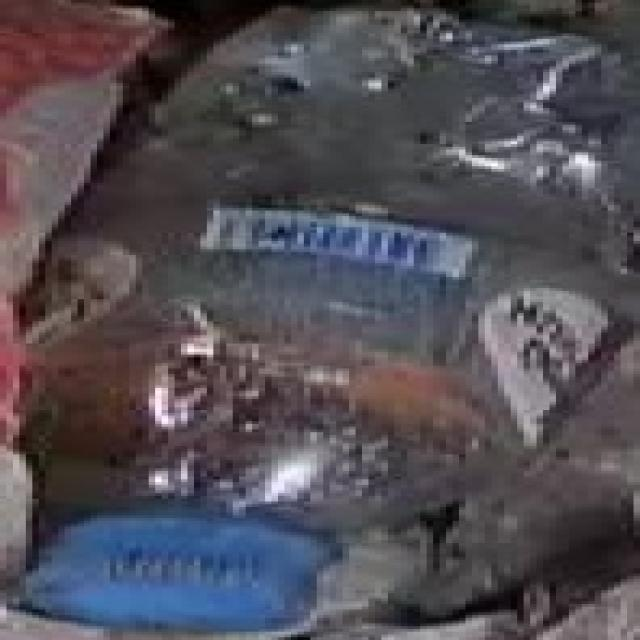plasticbottle: (32, 5, 620, 640)
